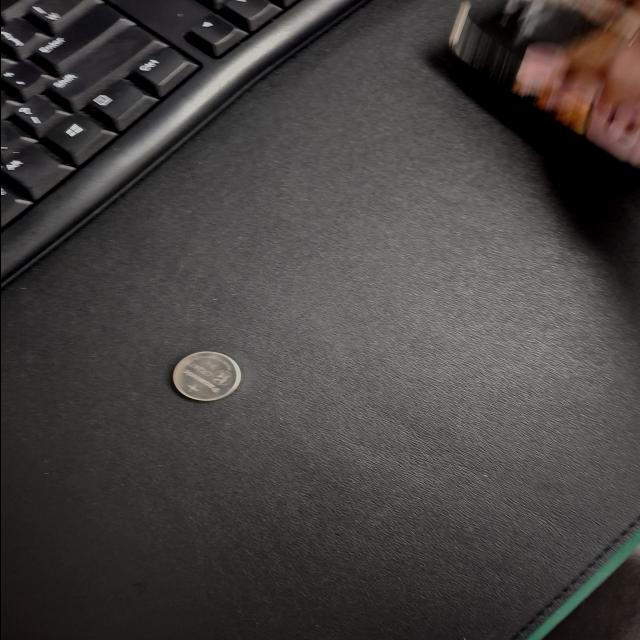COIN: (106, 129, 170, 179)
